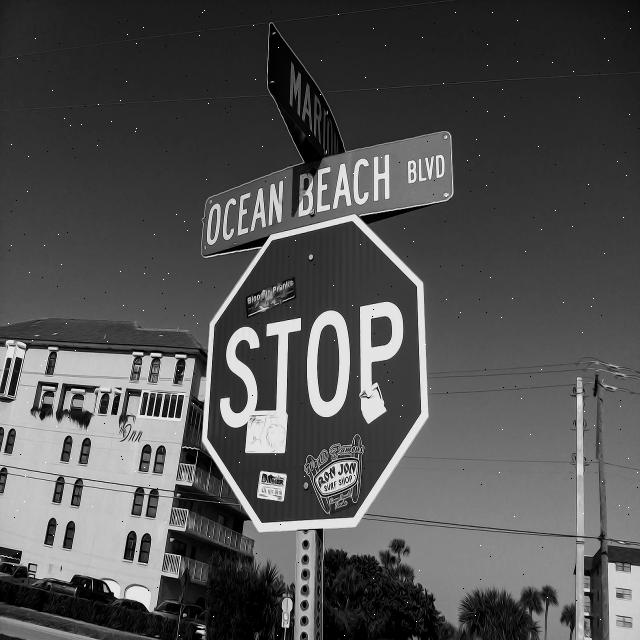Stop-sign: (190, 207, 446, 541)
